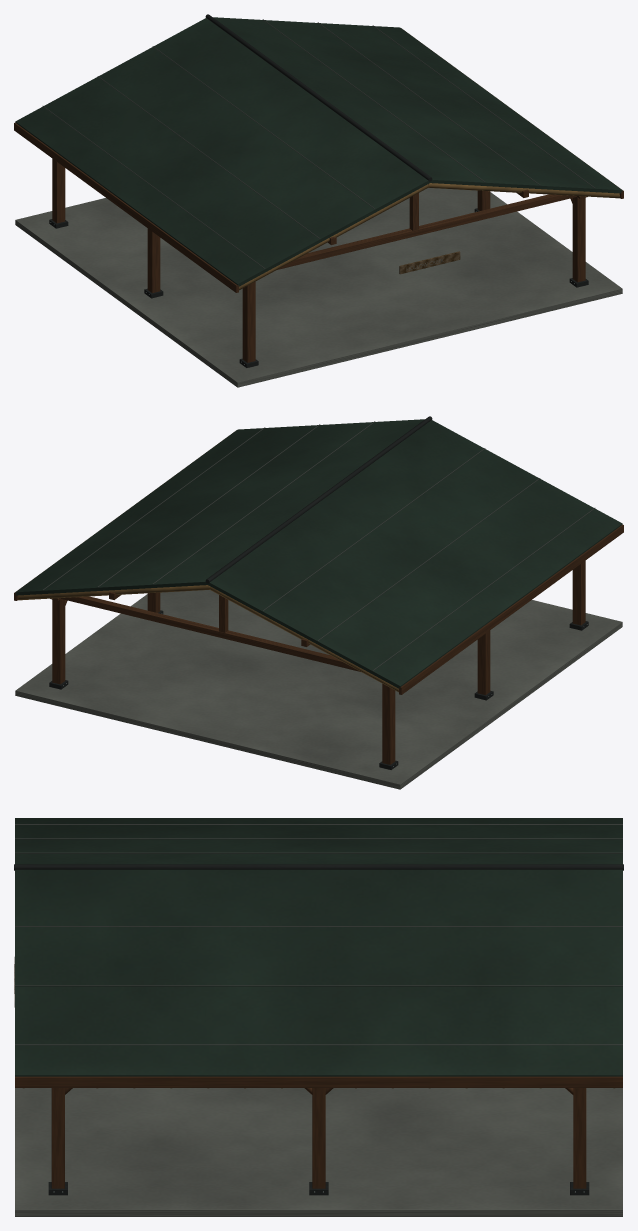
Rendered from level_camp_pavilion_refined.glb.
The picture shows the model from 3 angles, top to bottom: view 1: azimuth 30°, elevation 25°; view 2: azimuth 150°, elevation 25°; view 3: azimuth 270°, elevation 25°; orthographic projection. The views are drawn at different scales.
Parts seen in each view (by area): view 1: level_camp_pavilion_refined; view 2: level_camp_pavilion_refined; view 3: level_camp_pavilion_refined.
Part boxes in pixels (left/top/right/bottom): level_camp_pavilion_refined: left=14, top=14, right=623, bottom=387; level_camp_pavilion_refined: left=14, top=416, right=623, bottom=789; level_camp_pavilion_refined: left=14, top=818, right=623, bottom=1216.
Bounding box in the file's own units: 14.1 × 5.68 × 14.04.
9 materials, 9 textured.
